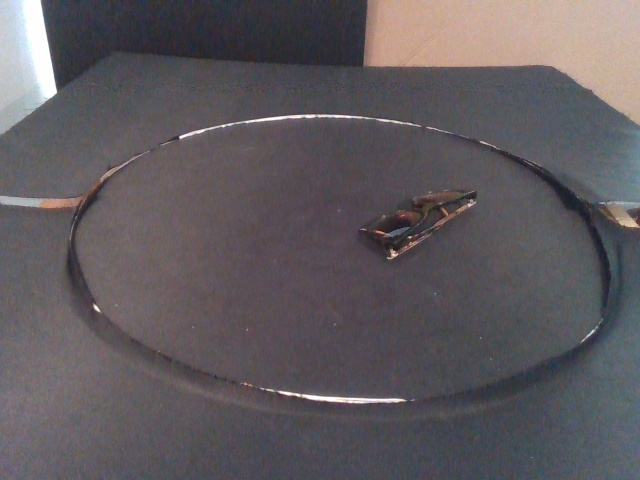glasses: (358, 187, 478, 261)
